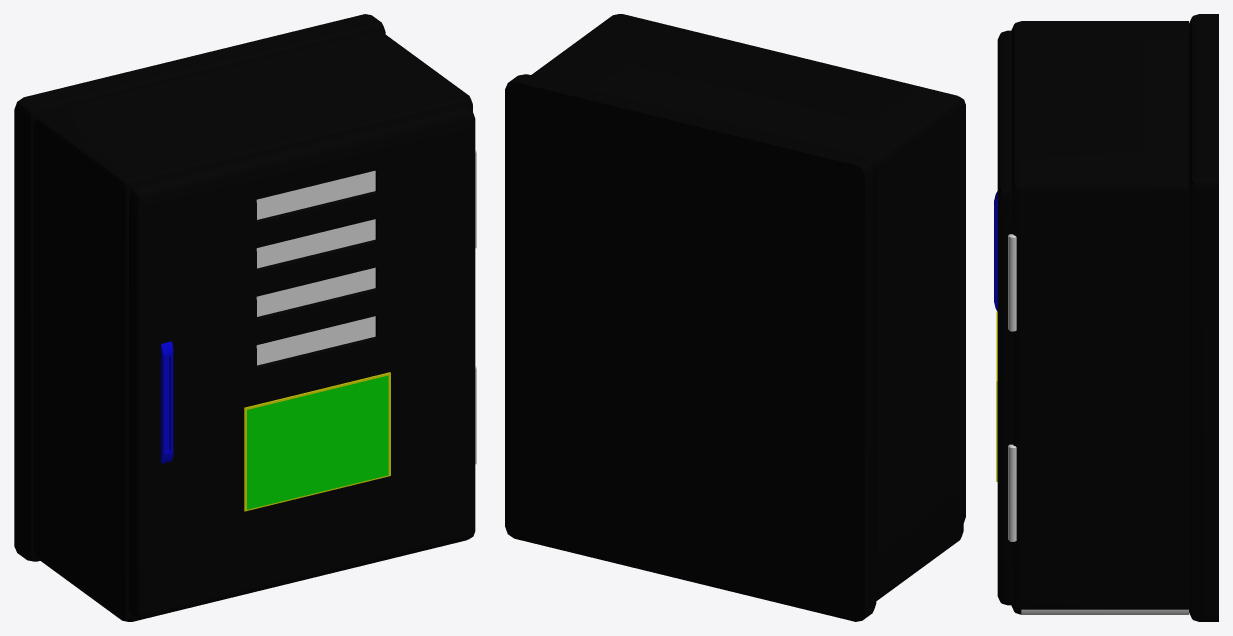
Rendered from FBX_Fuse_Box.fbx.
The picture shows the model from 3 angles, left to right: view 1: azimuth 30°, elevation 25°; view 2: azimuth 150°, elevation 25°; view 3: azimuth 270°, elevation 25°; orthographic projection. The views are drawn at different scales.
Parts seen in each view (by area): view 1: FBX_Fuse_Box_Door, FBX_Fuse_Box_Body; view 2: FBX_Fuse_Box_Body, FBX_Fuse_Box_Door; view 3: FBX_Fuse_Box_Body, FBX_Fuse_Box_Door.
Part boxes in pixels (box(x1,y1,x2,y2)): FBX_Fuse_Box_Door: box(129, 107, 475, 618); FBX_Fuse_Box_Body: box(14, 14, 476, 621); FBX_Fuse_Box_Body: box(505, 14, 963, 621); FBX_Fuse_Box_Door: box(959, 96, 965, 522); FBX_Fuse_Box_Body: box(1008, 14, 1218, 621); FBX_Fuse_Box_Door: box(994, 30, 1012, 605).
Size of the model in its own units: 26.2 by 31.77 by 14.56.
